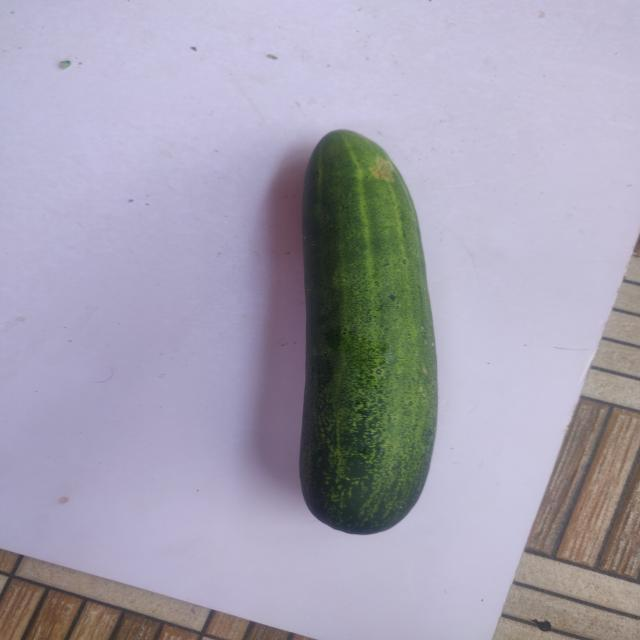Cucumber: (265, 122, 480, 552)
